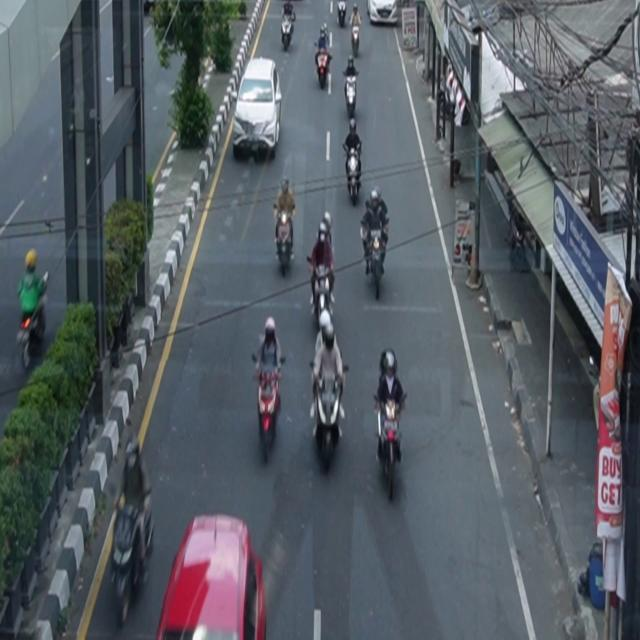car: (156, 515, 268, 640), (233, 57, 283, 162)
